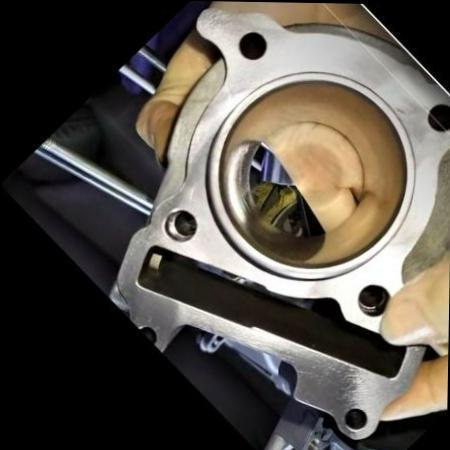hole: (347, 274, 400, 326), (155, 200, 206, 249), (228, 20, 276, 68), (417, 94, 450, 140)
